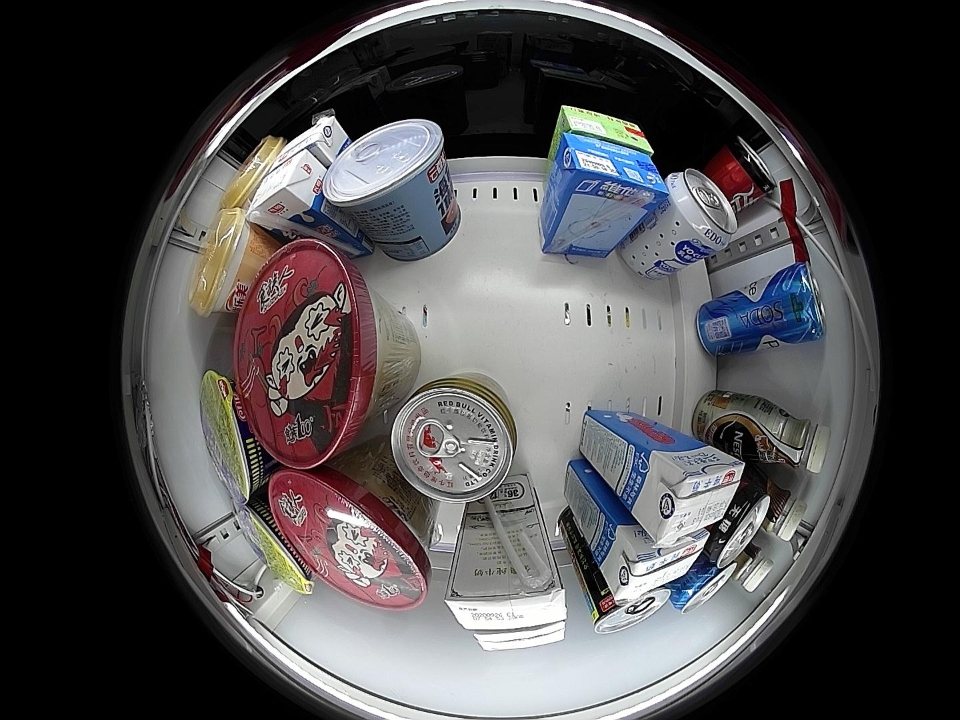haitai: (322, 117, 448, 223)
heweidao: (199, 369, 267, 505), (233, 499, 312, 594)
hongniu2: (391, 374, 518, 503)
jindian: (446, 568, 568, 630), (471, 622, 567, 651)
kafei: (741, 404, 831, 473), (754, 474, 807, 541), (729, 540, 774, 594)
lingdukele: (707, 489, 770, 567), (718, 136, 776, 199)
niunai: (638, 443, 746, 545), (608, 522, 712, 601), (248, 148, 326, 231), (271, 113, 347, 172)
qingdaowangzi-2: (770, 262, 826, 344), (670, 556, 736, 614)
rusuanjunqishui: (662, 167, 739, 252)
suanlafen: (235, 239, 390, 468), (270, 464, 431, 612)
wanglaoji: (554, 105, 654, 155)
weitanai: (552, 134, 667, 217)
yezhi: (590, 584, 670, 635)
youlemei: (187, 207, 265, 319), (223, 135, 281, 210)
